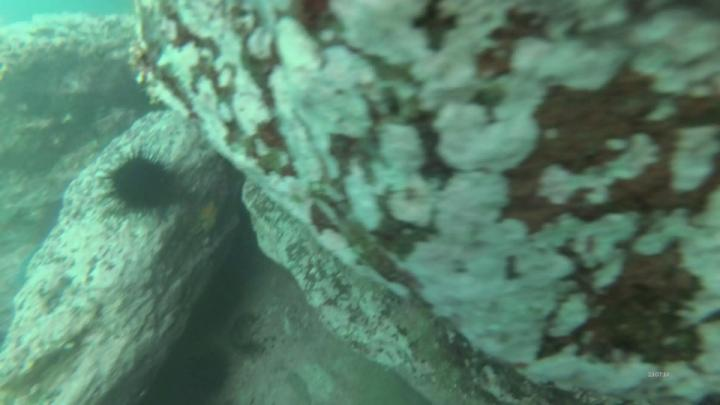echinus: (111, 155, 173, 215)
holothurian: (227, 312, 268, 360)
